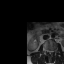CCS_normal: (49, 48, 50, 55)
LFS_normal: (52, 48, 54, 53)
LLS_normal: (50, 48, 52, 54)
RFS_normal: (46, 48, 47, 53)
RLS_normal: (47, 48, 49, 53)
